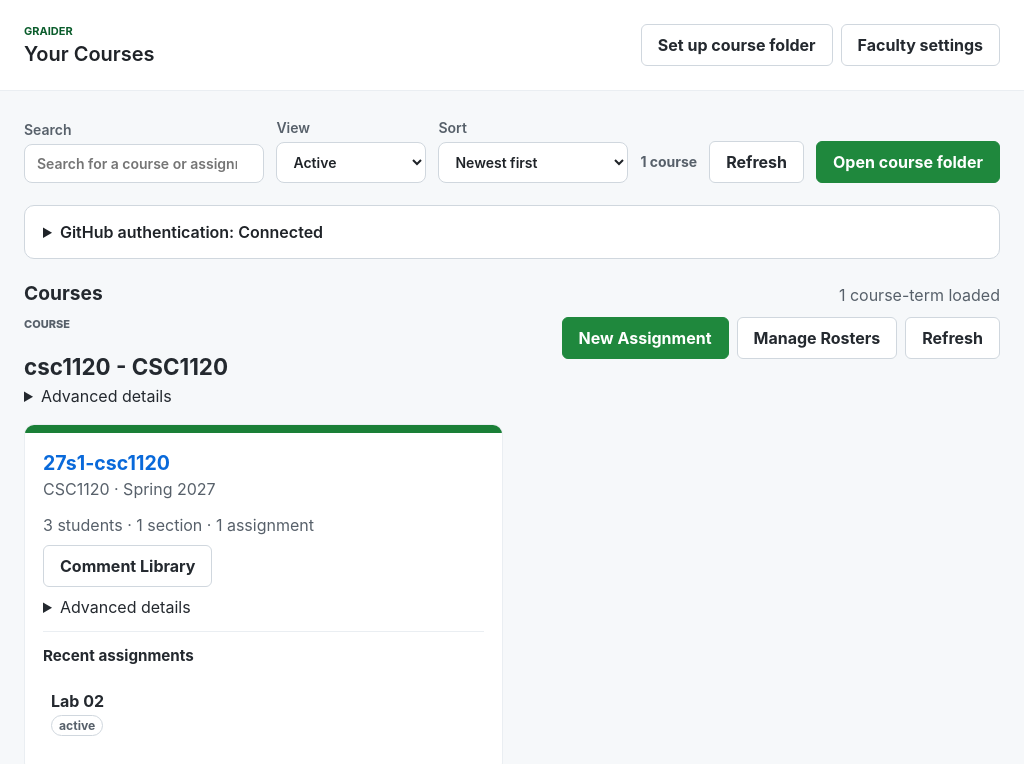
Scenario: App routing — reached from the dashboard › refreshes the dashboard cache after deleting an assignment, so it disappears without a manual refresh
Click the button with aria-label "Open assignment detail for Lab 02": click(78, 701) x1=43 y1=683 x2=484 y2=744
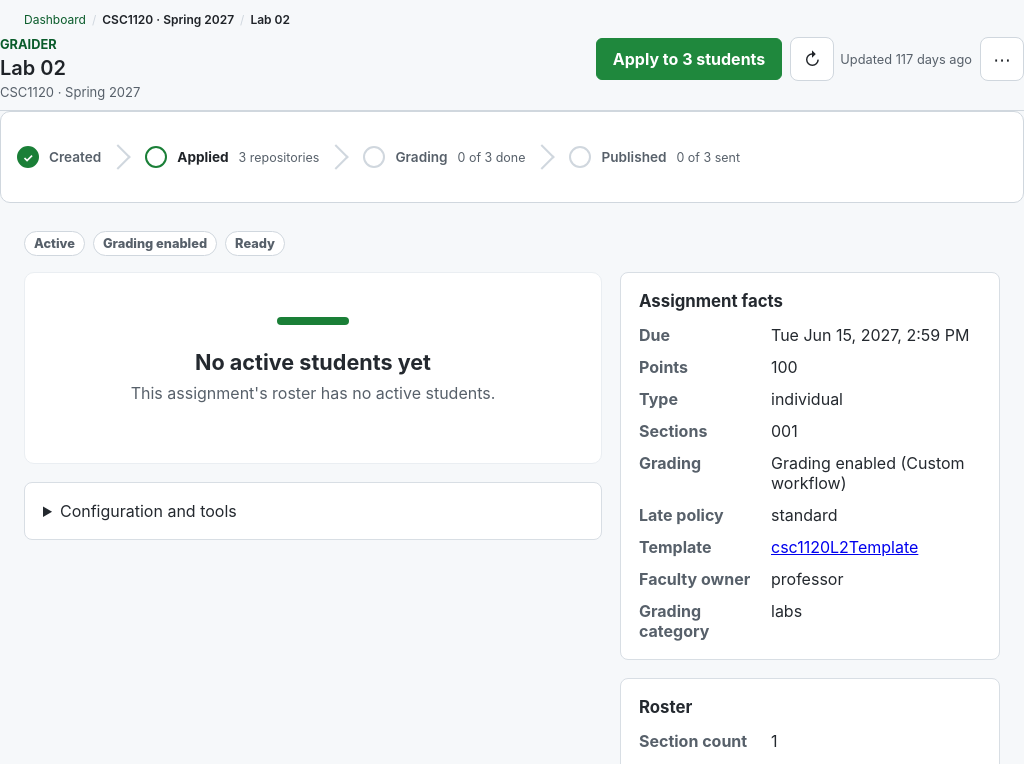
Expected: the heading "Lab 02" is shown, x1=0 y1=56 x2=66 y2=80
Click the button named "More assignment actions": click(1002, 59) x1=980 y1=37 x2=1023 y2=81
(page scrolled)
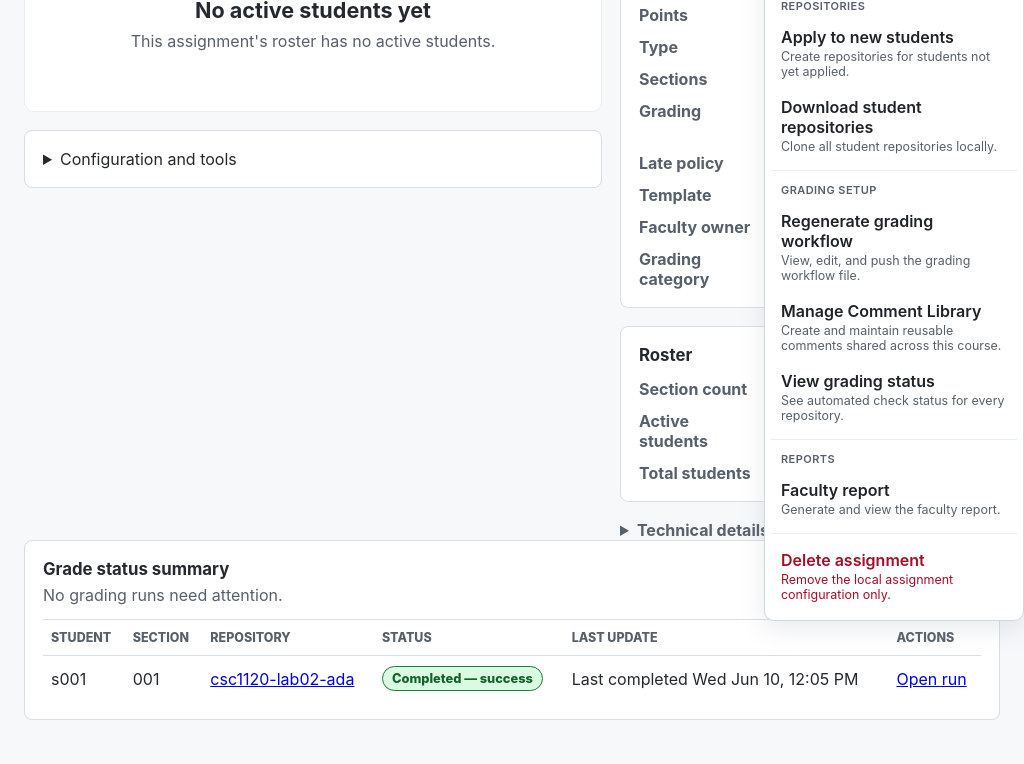
Click the menu item that starts with "Delete assignment": click(894, 576) x1=771 y1=542 x2=1017 y2=610
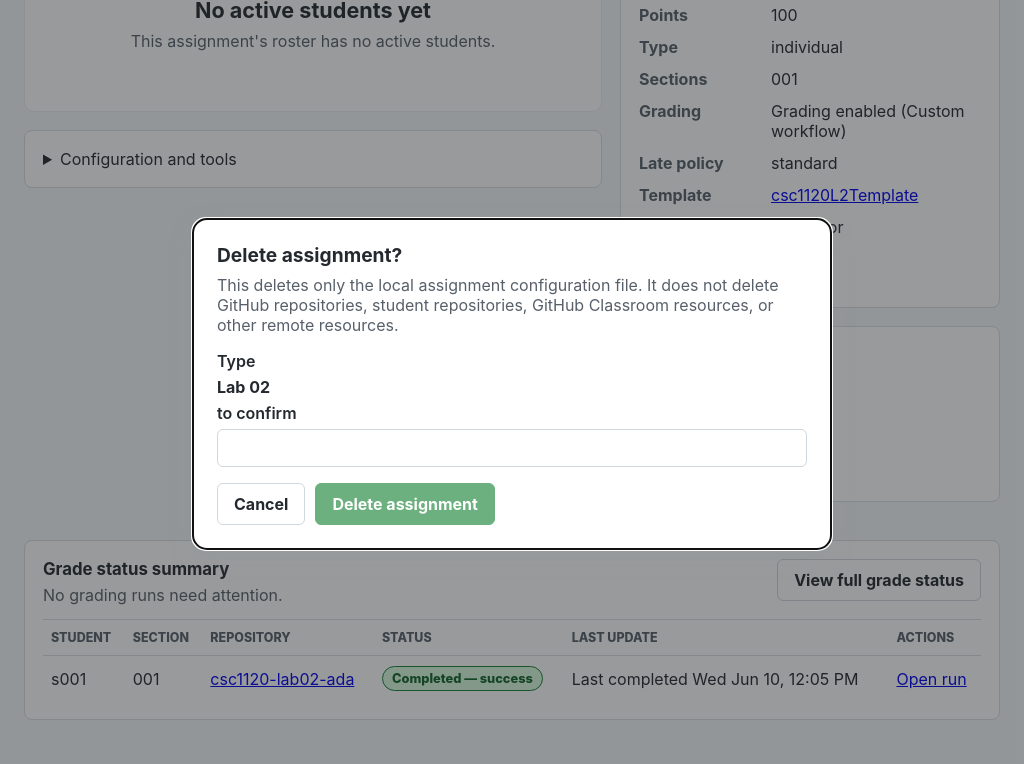
In the field: (512, 448) x1=217 y1=429 x2=807 y2=467, type "Lab 02"
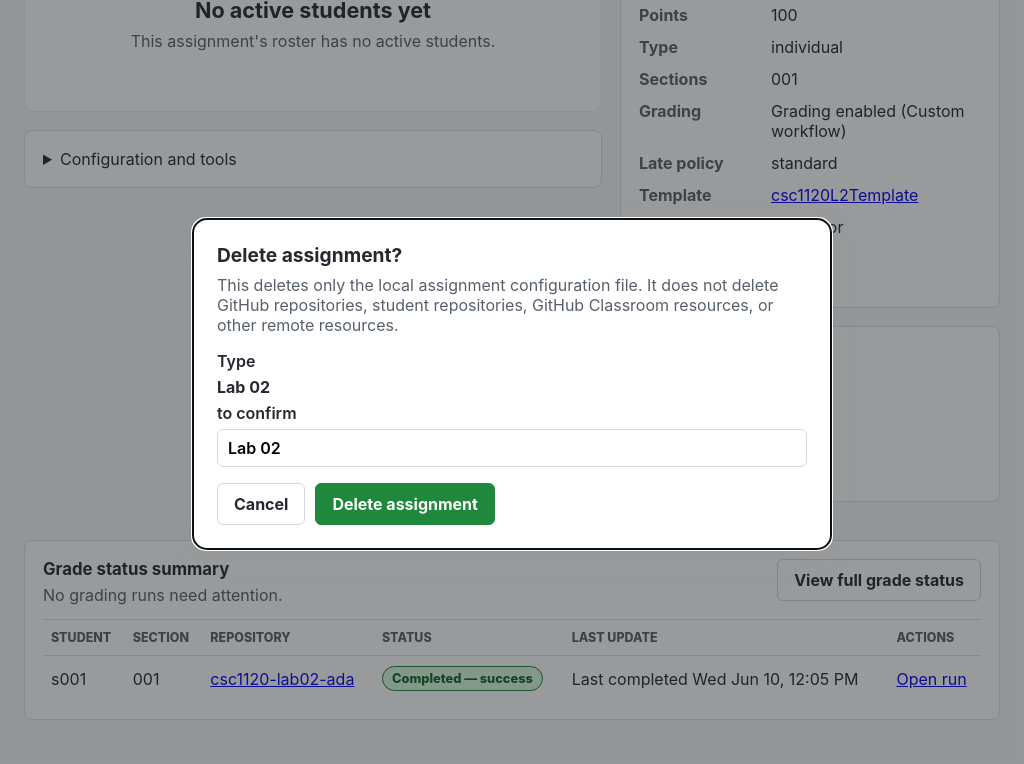
Click the button "Delete assignment": click(405, 504) x1=315 y1=483 x2=495 y2=525
(page scrolled)
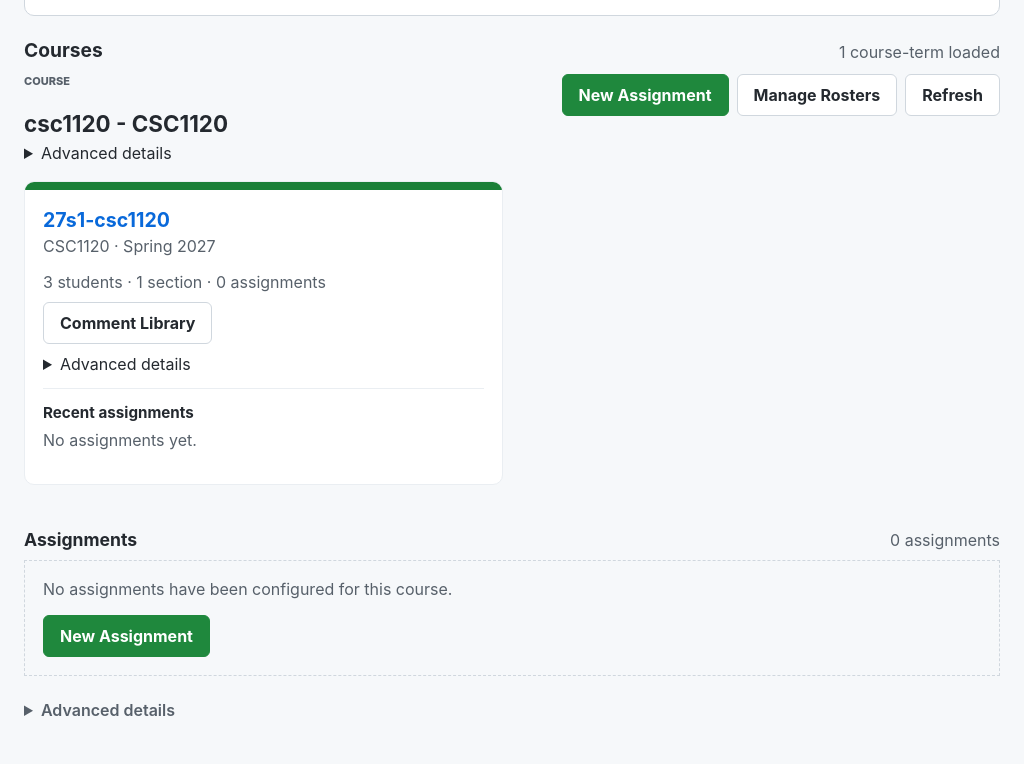
Expected: the heading "27s1-csc1120" is shown, x1=43 y1=208 x2=170 y2=232
